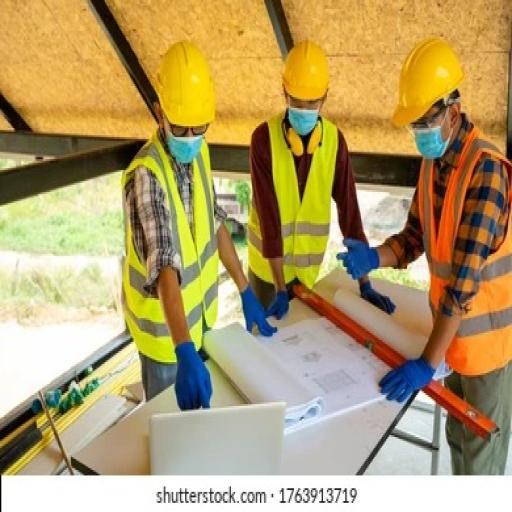mask: (284, 104, 330, 148), (165, 133, 216, 171), (408, 128, 448, 164)
